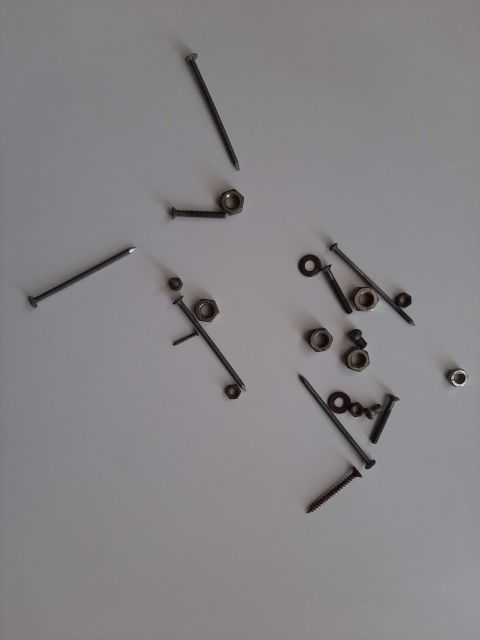gwozdz: (5, 215, 135, 325), (275, 355, 385, 475), (155, 275, 245, 385), (175, 35, 245, 175), (325, 235, 425, 325)
nakretka: (325, 335, 385, 385), (275, 305, 335, 355), (325, 275, 385, 305), (205, 175, 245, 215), (425, 355, 475, 385), (185, 295, 215, 325)
podkladka: (305, 385, 355, 415), (295, 245, 325, 275)
sruba: (155, 185, 235, 235), (305, 245, 355, 325), (295, 455, 355, 505), (365, 385, 415, 445)
